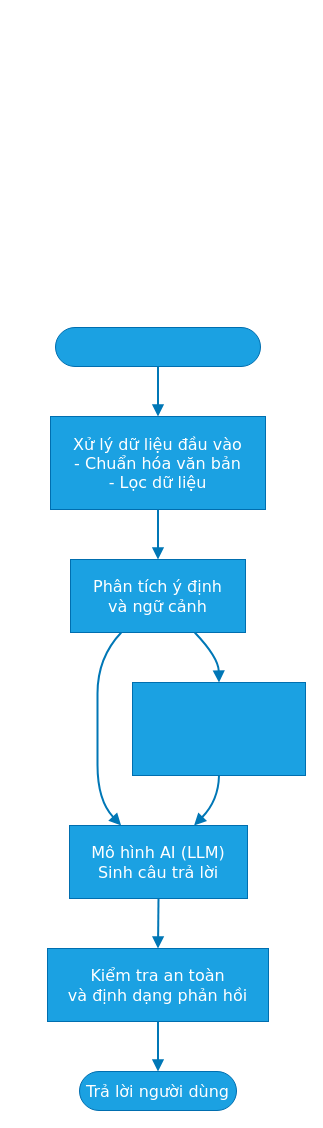
Image size: 323x1128. Some labels were removed from this diagram. The box of each missing label's shape, as (x1, y1, x2, y2) in pixels:
Cơ sở tri thức RAG / Database Tài liệu / API: (132, 682, 306, 776)
Người dùng nhập câu hỏi: (54, 326, 260, 366)
